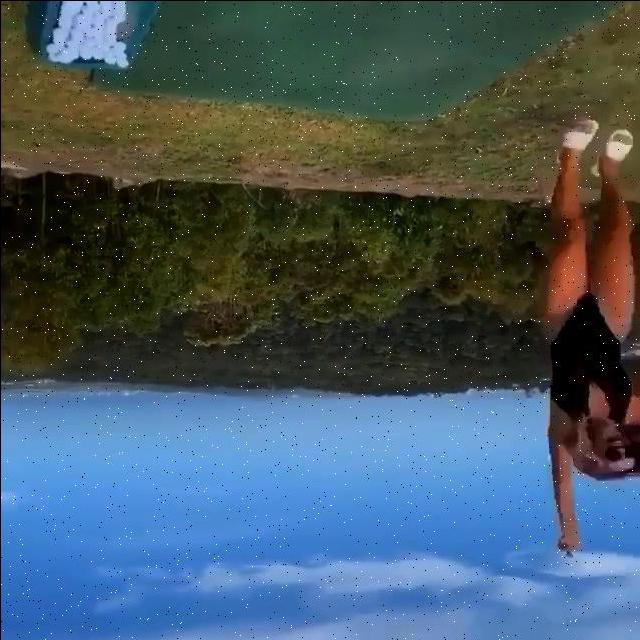ClubHandle: (555, 536, 574, 557)
